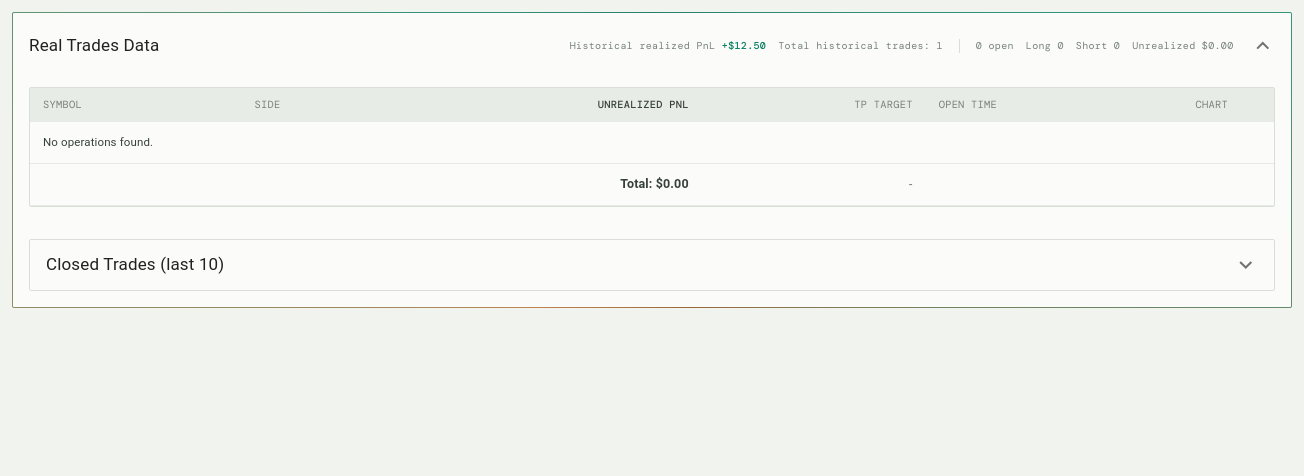
Test: OperationsTable › embeds the closed trade preview at the end of the real trades accordion
Expected: the text "Historical realized PnL" is shown, [570,39,716,52]
Expected: the element showing "Historical realized PnL +$12.50 Total historical trades: 1" is shown, [570,39,943,52]
What coordinates should you click on to do the following:
click the button "Closed Trades (last 10)"
I would click on:
 (135, 264)
Its box is [30,240,1274,290].
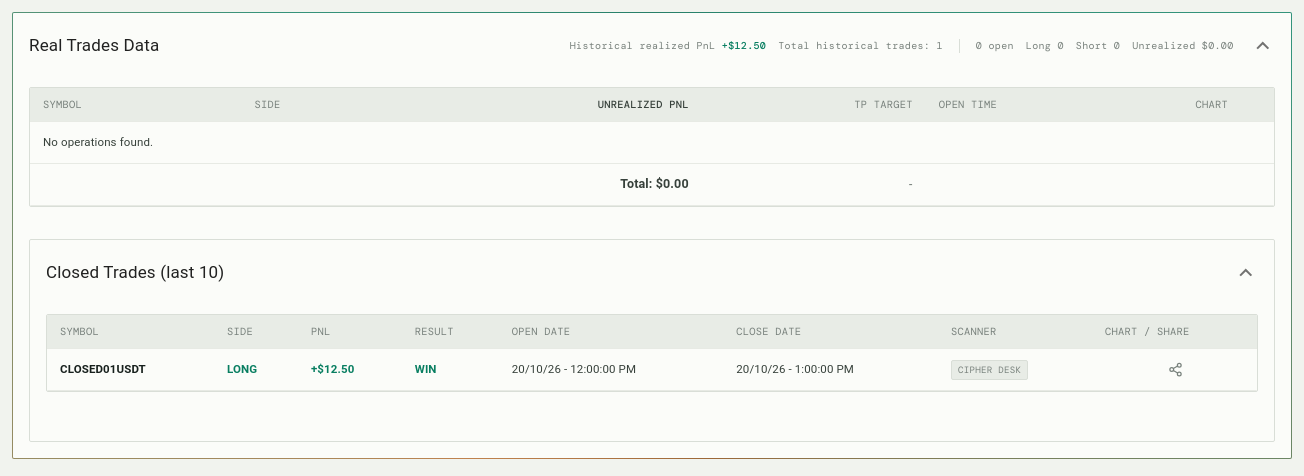
Expected: the button "Closed Trades (last 10)" is expanded
What coordinates should you click on to do the following:
click the button "Closed Trades (last 10)"
I would click on:
 (135, 272)
Its box is [30,240,1274,306].
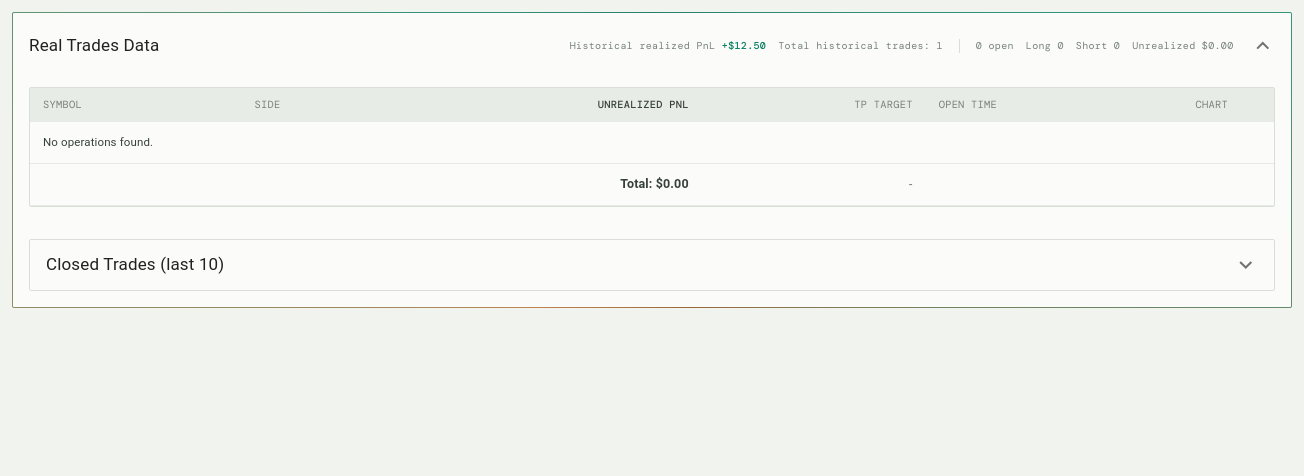
Expected: the button "Closed Trades (last 10)" is collapsed, [30,240,1274,290]
